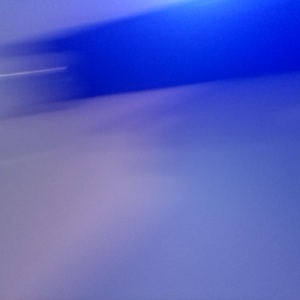alive_ball: (132, 69, 220, 162)
dead_ball: (242, 66, 300, 159)
